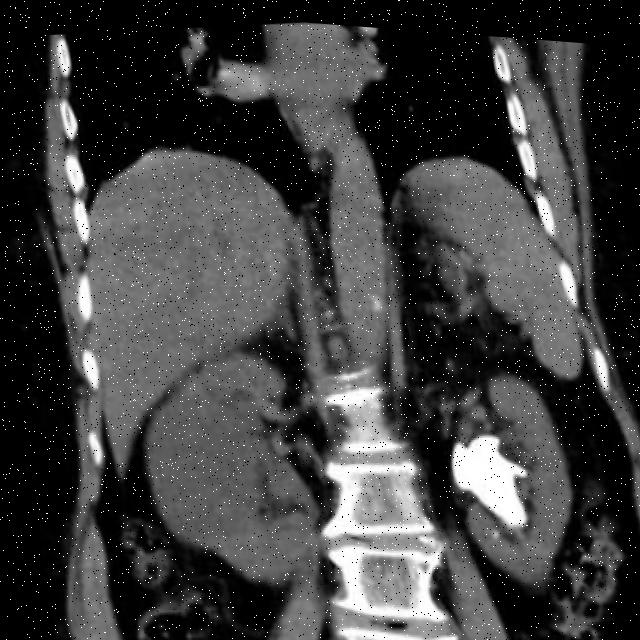Tas_Var: (438, 403, 538, 534)
